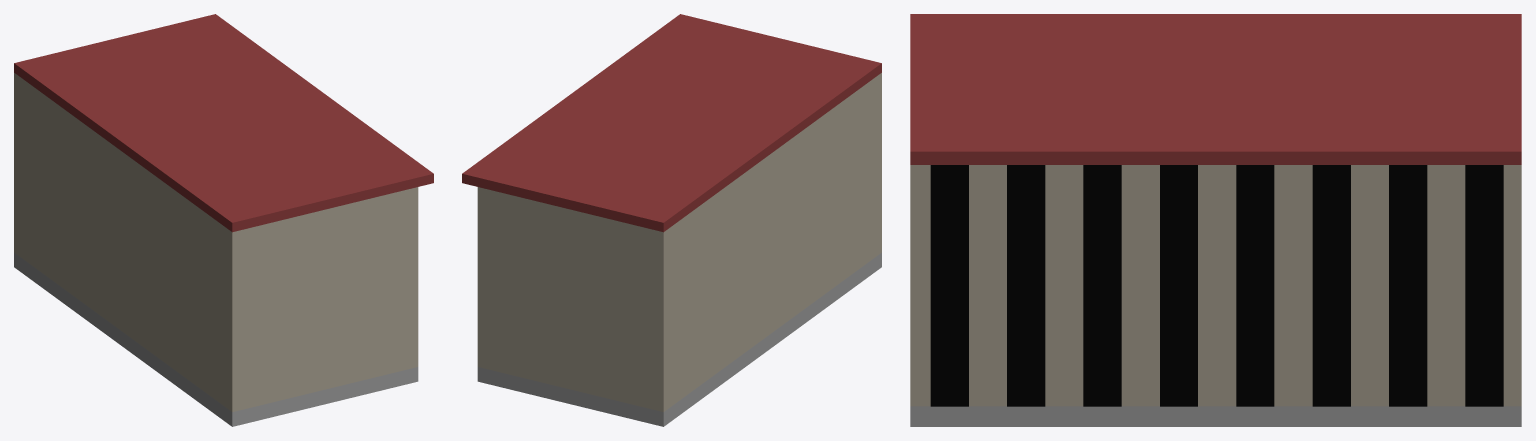
File: BuildingA.fbx
3 views of the same model, side by side, from view 1: azimuth 30°, elevation 25°; view 2: azimuth 150°, elevation 25°; view 3: azimuth 270°, elevation 25° (orthographic). The views are drawn at different scales.
Visible parts, largest first — view 1: BuildingA; view 2: BuildingA; view 3: BuildingA.
Part boxes in pixels (x1,y1,x2,y2): BuildingA: [14, 14, 433, 426]; BuildingA: [462, 14, 881, 426]; BuildingA: [910, 14, 1521, 426].
Size of the model in its own units: 732 by 708 by 1373.
1 material, 1 textured.
